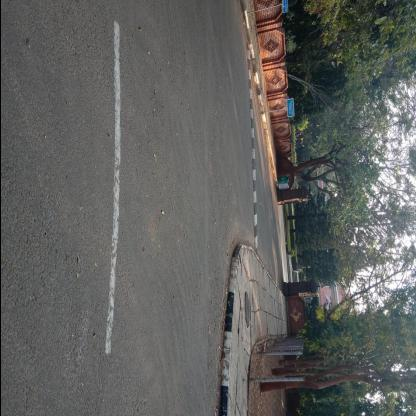speed-bumps: (239, 50, 265, 250)
